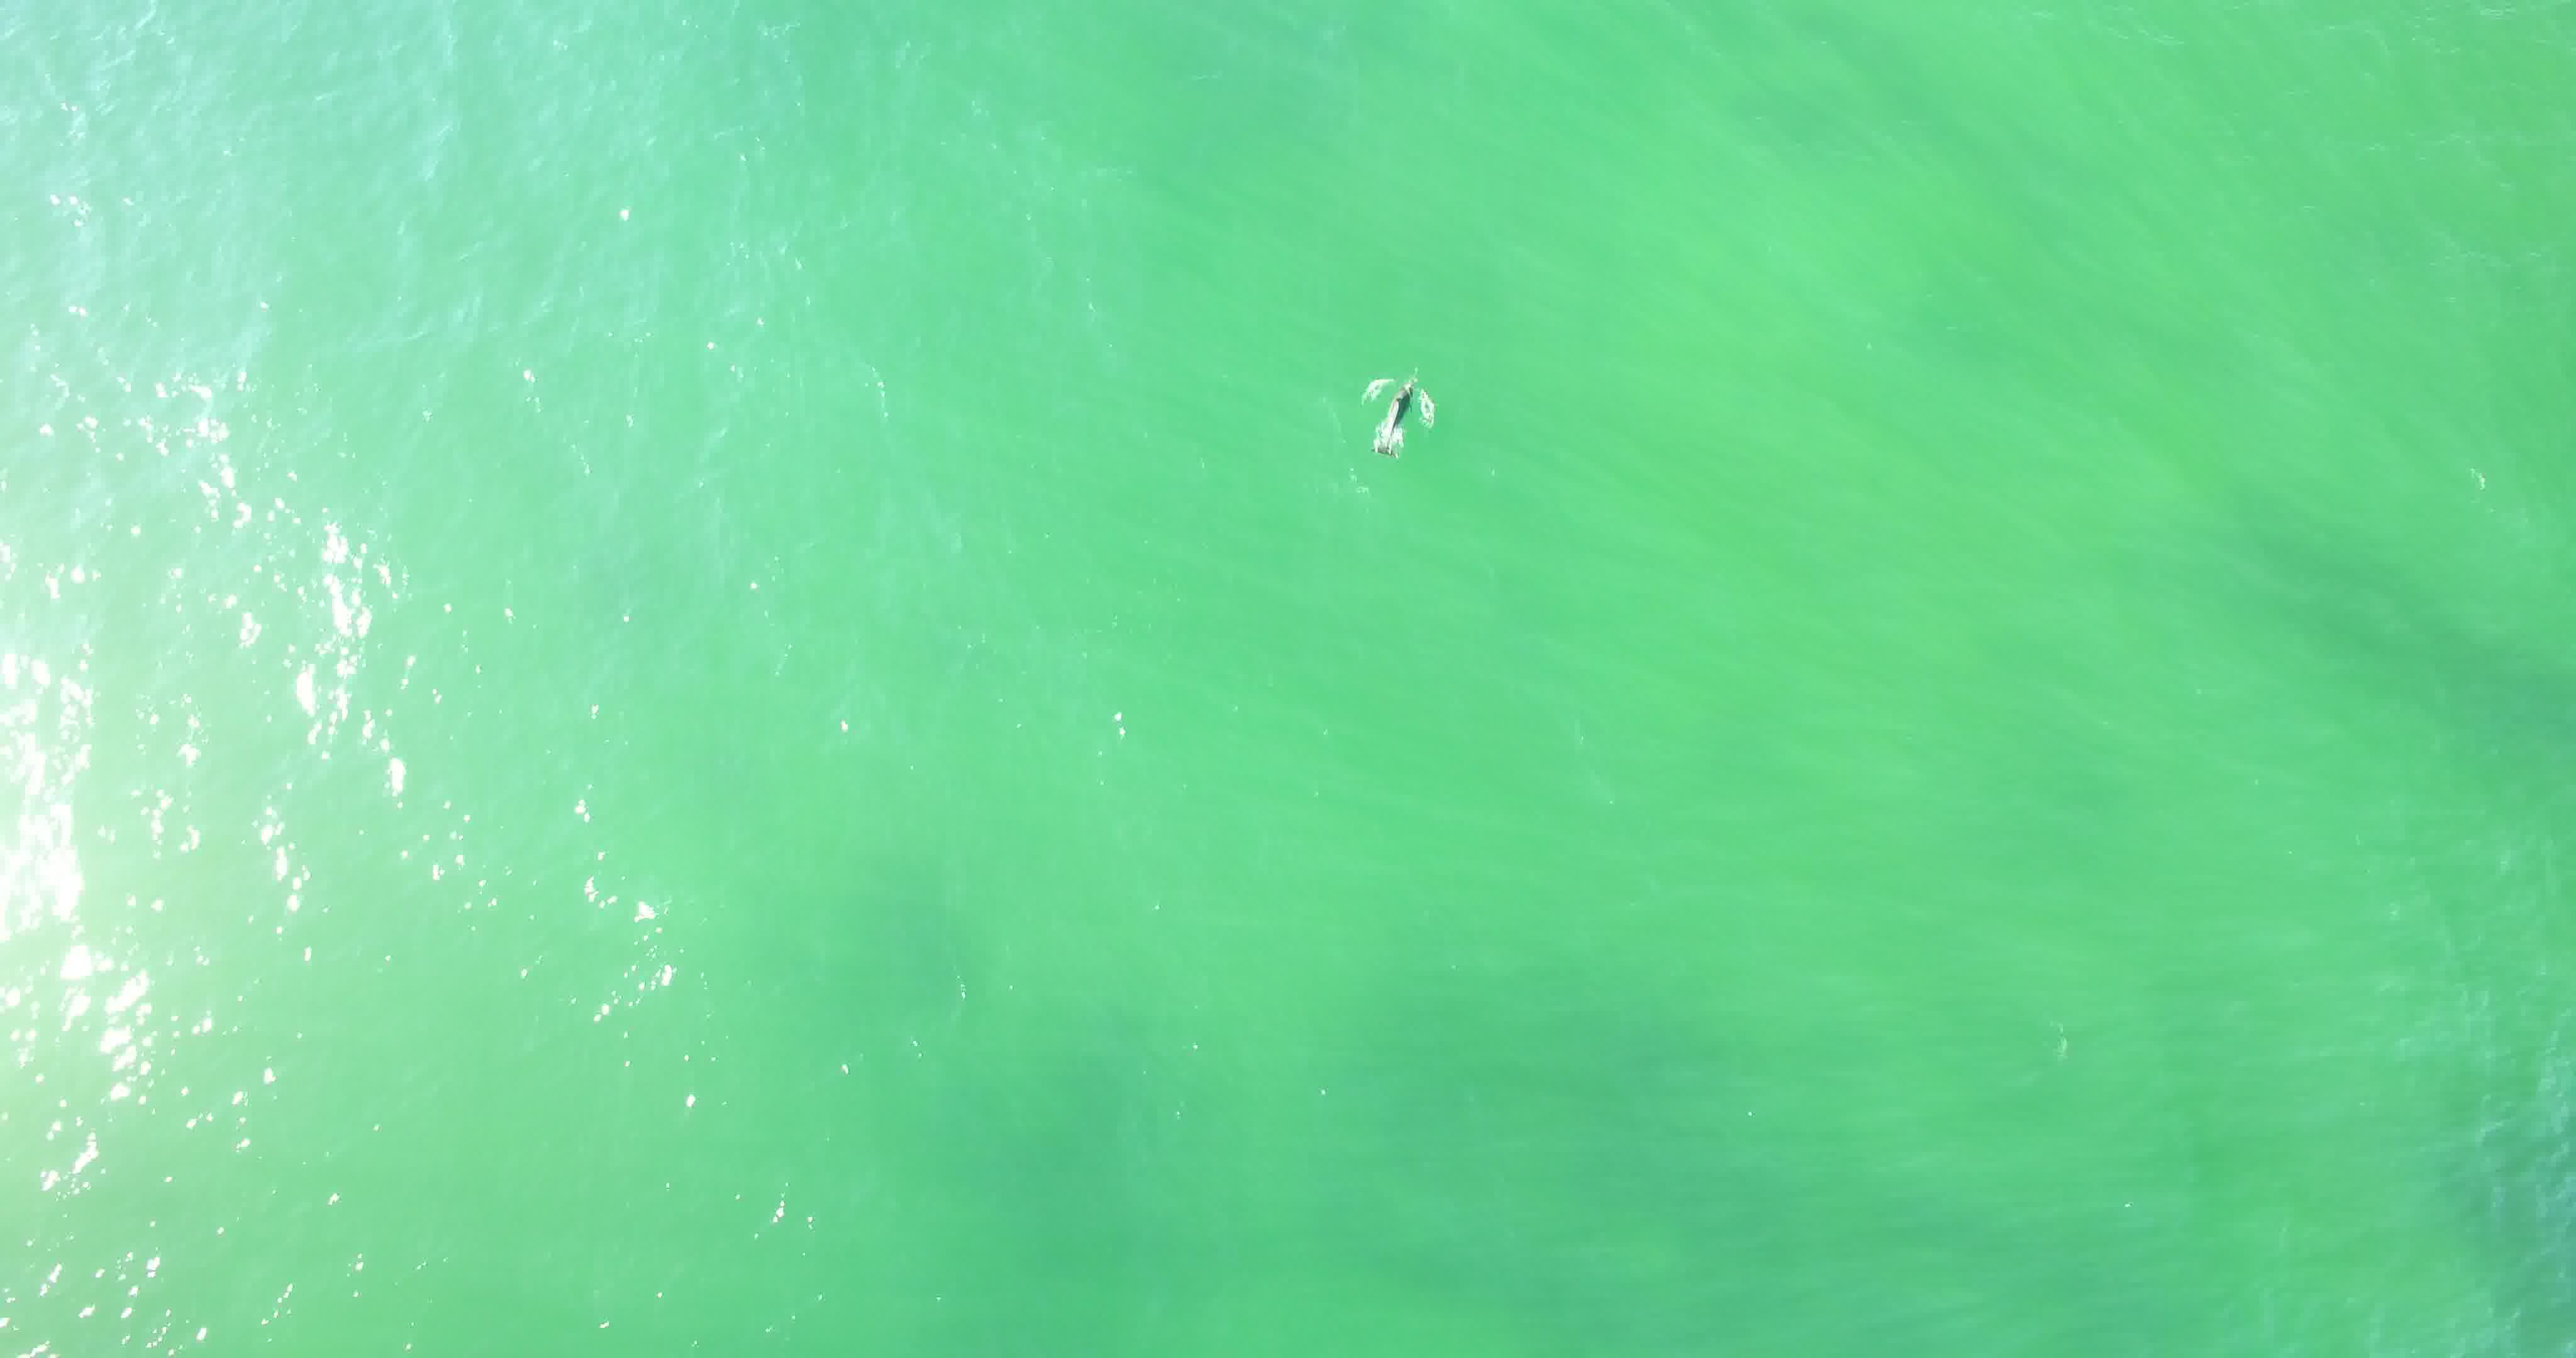dolphin: (1327, 354, 1453, 480)
